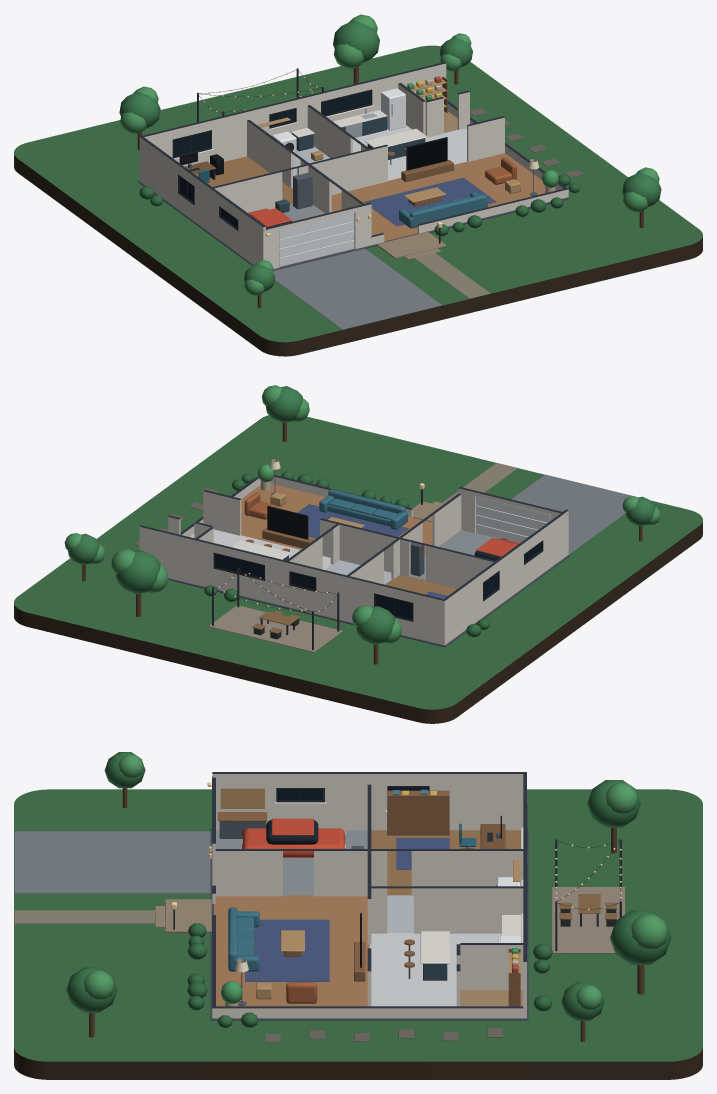
File: house.glb
3 views of the same model, one above another, from view 1: azimuth 30°, elevation 25°; view 2: azimuth 150°, elevation 25°; view 3: azimuth 270°, elevation 25° (orthographic). The views are drawn at different scales.
Visible parts, largest first — view 1: lot, house, tv_screen, gdoor_0, gdoor_2, gdoor_1, gdoor_3, win_kitchen_2, win_office_0, fridge_door; view 2: lot, house, gdoor_3, win_kitchen_2, gdoor_2, car, gdoor_1, win_office_0; view 3: lot, house, car, win_garage_4.
Boxes of the visible parts, bbox=[...] form: lot: bbox=[14, 14, 702, 356]; house: bbox=[138, 62, 569, 270]; tv_screen: bbox=[408, 138, 446, 169]; gdoor_0: bbox=[279, 239, 354, 266]; gdoor_2: bbox=[279, 221, 354, 248]; gdoor_1: bbox=[279, 230, 354, 257]; gdoor_3: bbox=[279, 212, 354, 238]; win_kitchen_2: bbox=[322, 90, 370, 115]; win_office_0: bbox=[173, 131, 210, 156]; fridge_door: bbox=[389, 94, 405, 130]; lot: bbox=[14, 385, 702, 723]; house: bbox=[139, 464, 569, 647]; gdoor_3: bbox=[476, 496, 550, 522]; win_kitchen_2: bbox=[215, 554, 263, 578]; gdoor_2: bbox=[476, 505, 547, 529]; car: bbox=[474, 538, 519, 560]; gdoor_1: bbox=[476, 515, 537, 536]; win_office_0: bbox=[375, 595, 412, 619]; lot: bbox=[14, 752, 702, 1079]; house: bbox=[210, 772, 528, 1020]; car: bbox=[242, 818, 345, 857]; win_garage_4: bbox=[277, 789, 323, 800].
Size of the model in its own units: 29 by 5.06 by 31.
